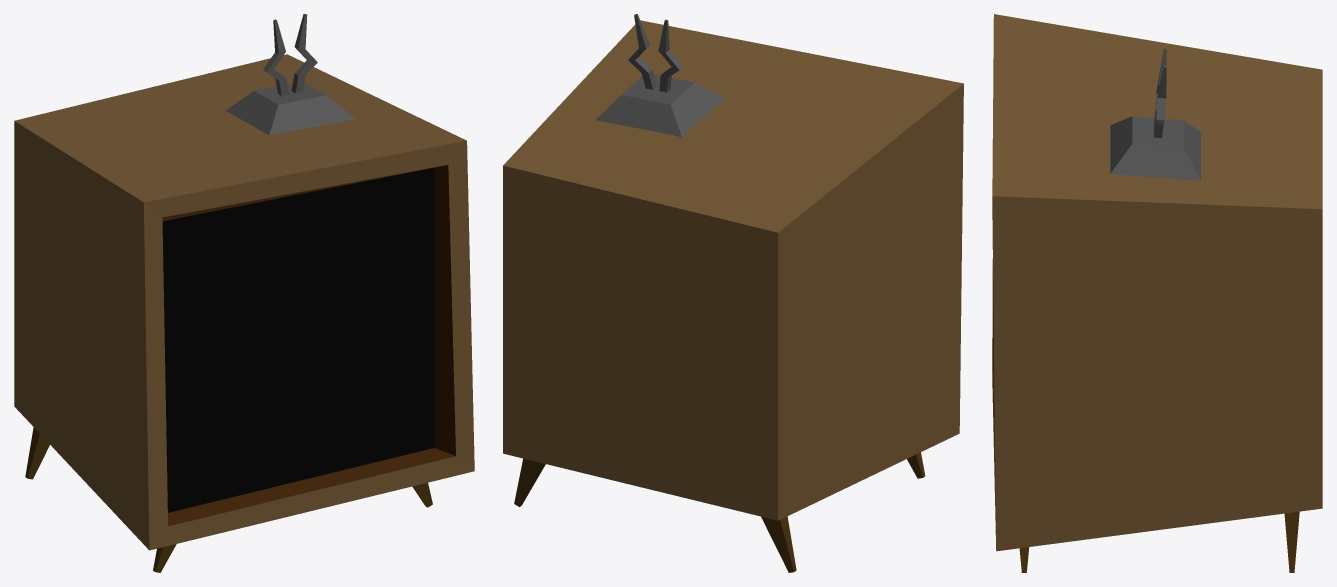
Rendered from TV_Prop.fbx.
3 renders of one model, left to right at view 1: azimuth 30°, elevation 25°; view 2: azimuth 150°, elevation 25°; view 3: azimuth 270°, elevation 25°, orthographic. The views are drawn at different scales.
Parts seen in each view (by area): view 1: Cube.004, Cube.007, Cube.008, Cube.006, Cube.005; view 2: Cube.004, Cube.007, Cube.006, Cube.008; view 3: Cube.004, Cube.007, Cube.008, Cube.006.
Boxes of the visible parts, x1=… form: Cube.004: x1=14, y1=54, x2=474, y2=550; Cube.007: x1=225, y1=82, x2=354, y2=135; Cube.008: x1=263, y1=14, x2=317, y2=95; Cube.006: x1=25, y1=427, x2=49, y2=479; Cube.005: x1=153, y1=482, x2=432, y2=572; Cube.004: x1=503, y1=20, x2=963, y2=520; Cube.007: x1=595, y1=74, x2=724, y2=137; Cube.006: x1=514, y1=458, x2=796, y2=572; Cube.008: x1=628, y1=14, x2=683, y2=92; Cube.004: x1=992, y1=14, x2=1322, y2=551; Cube.007: x1=1110, y1=116, x2=1201, y2=180; Cube.008: x1=1153, y1=48, x2=1166, y2=138; Cube.006: x1=1284, y1=511, x2=1299, y2=572.
Bounding box in the file's own units: 174 × 230 × 143.
